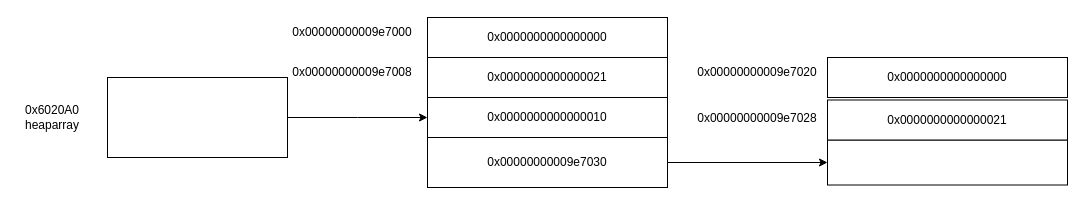
Image size: 1085x205. Some labels were removed from this diagram. Each missing label, with the box of its shape:
0x00000000009e7010: (106, 76, 288, 158)
aaaaaaaaaaa: (826, 139, 1068, 185)
